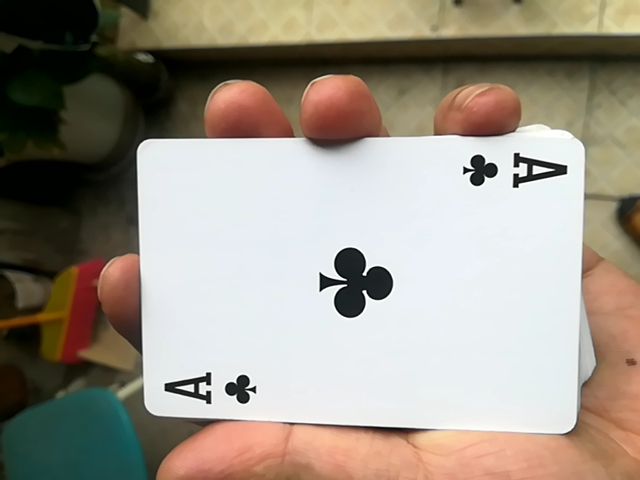mh a: (123, 130, 587, 441)
